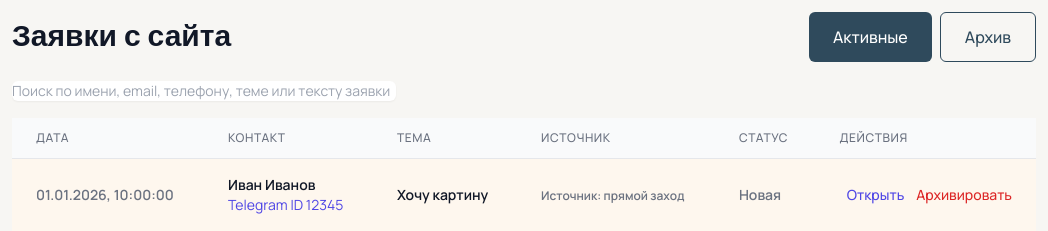
Test: MessagesList phone (@US3-BE4) › T016: lead with only Telegram id falls back to tg://user link and search by username works
Type "zzz" into the field named "Поиск по заявкам".
click(204, 91); type("zzz")  # box x1=12 y1=81 x2=396 y2=101
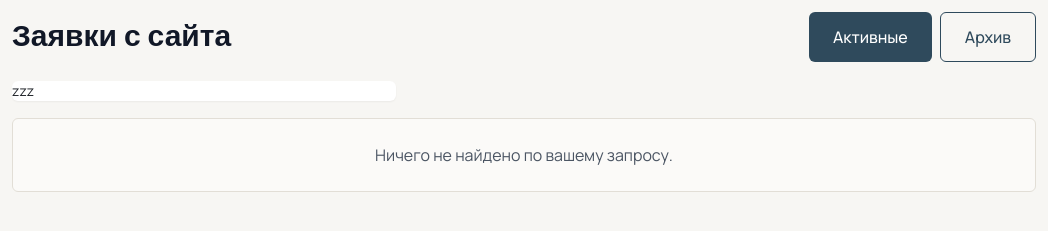
Now the text "Ничего не найдено по вашему запросу." is shown, box x1=12 y1=118 x2=1036 y2=192
